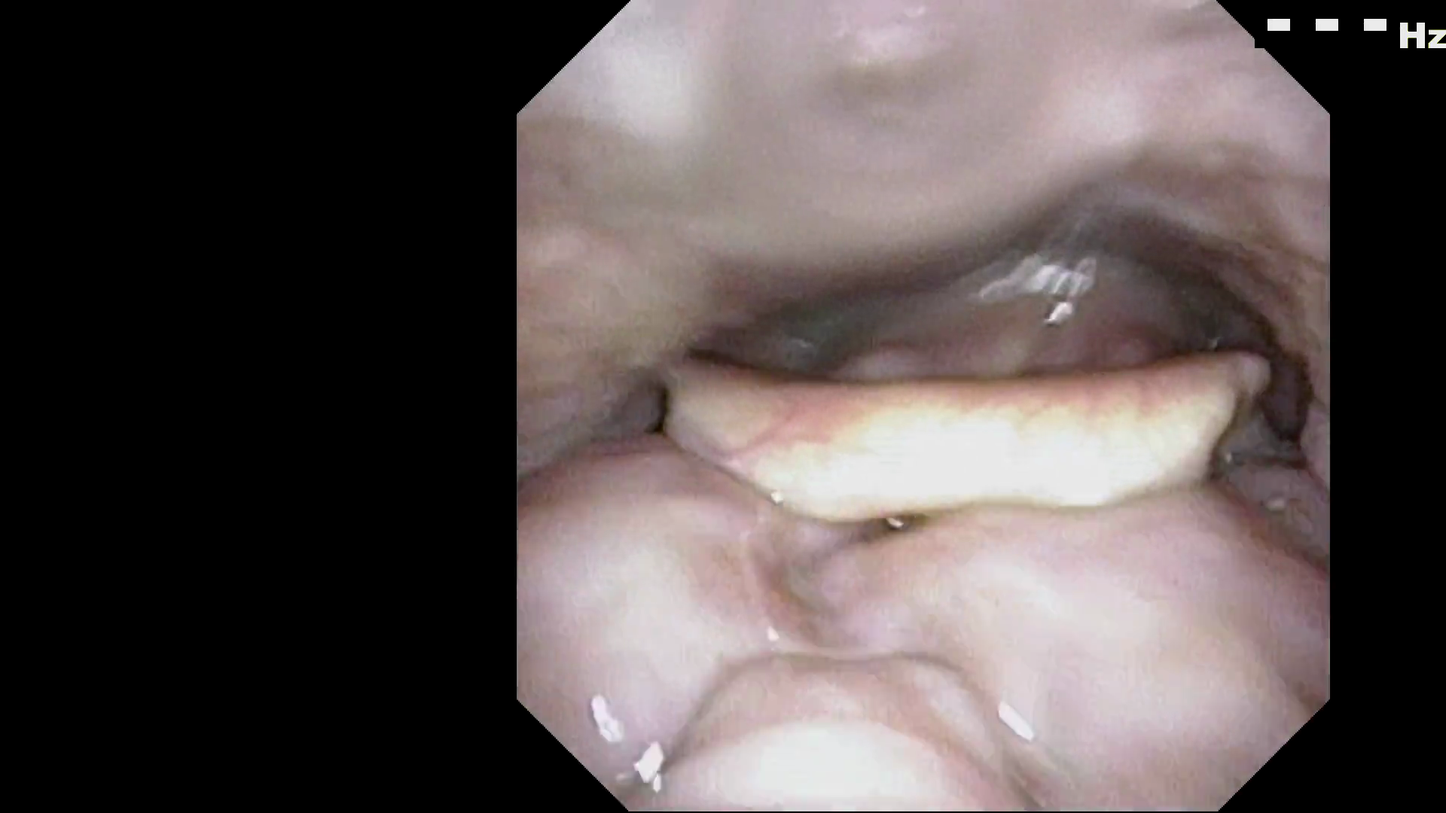epiglottis: (669, 380, 1285, 558)
trachea: (935, 386, 1089, 467)
